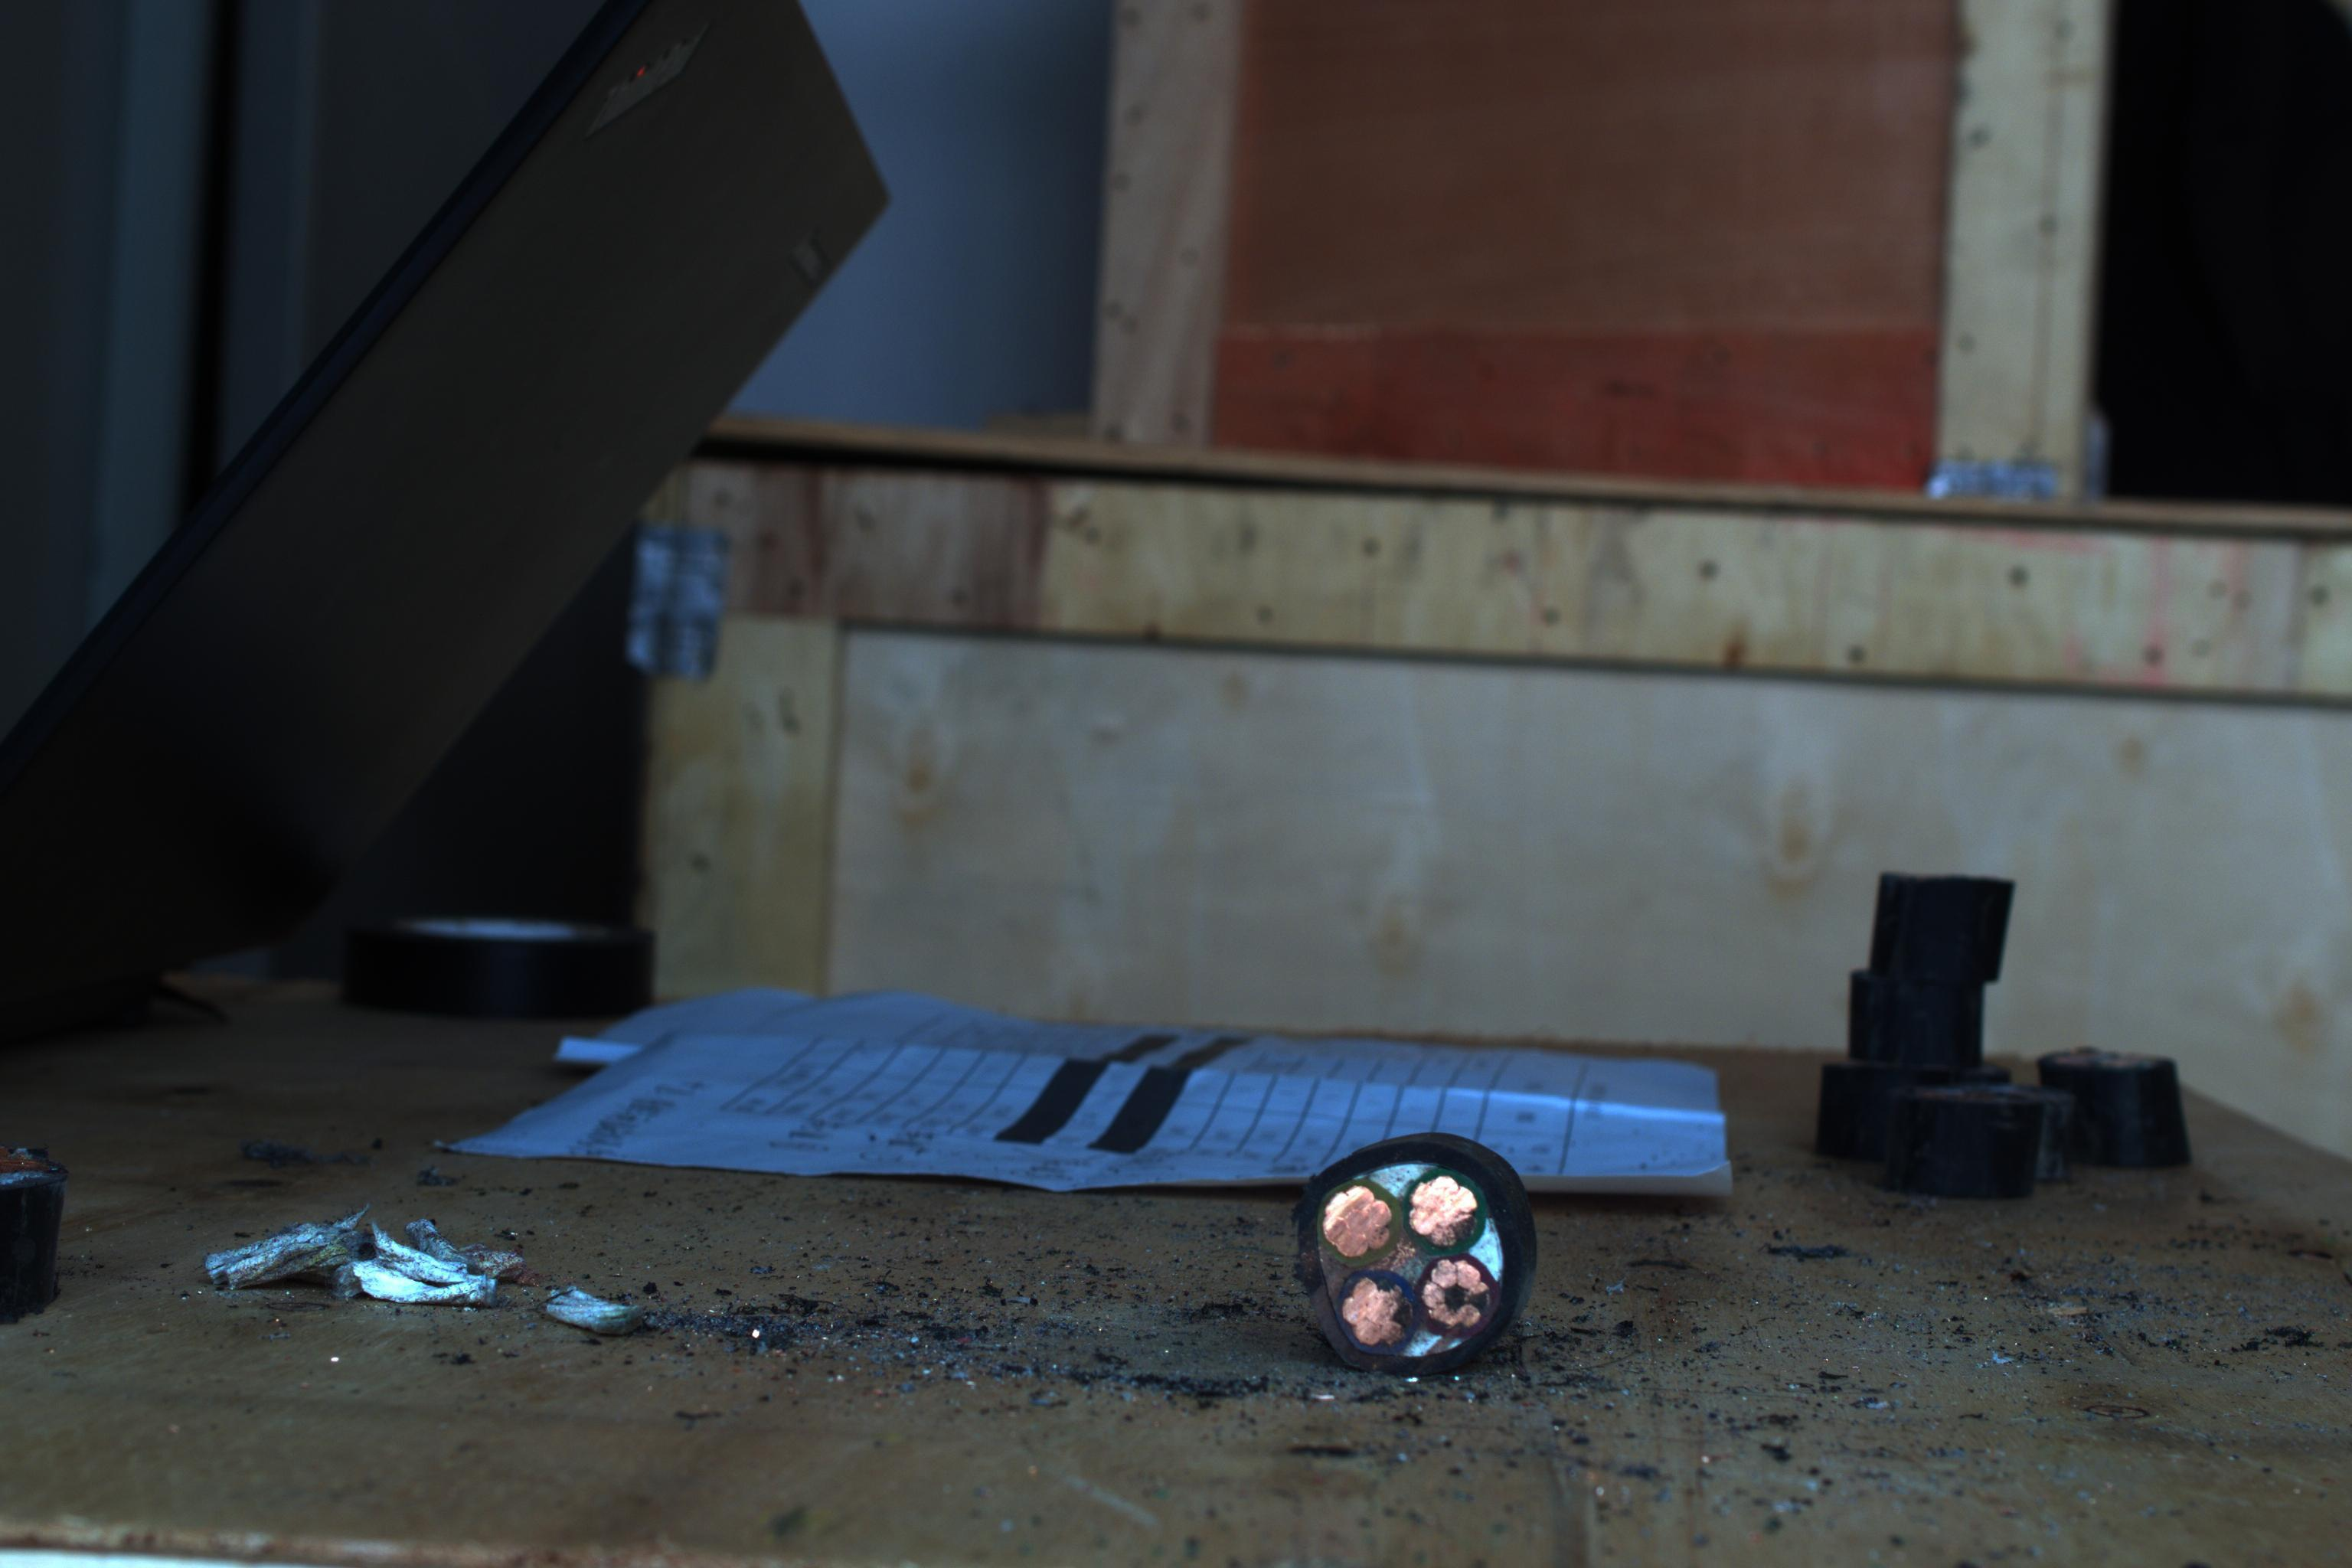YJV_0.6_1kV_4x35: (1288, 1116, 1538, 1377)
